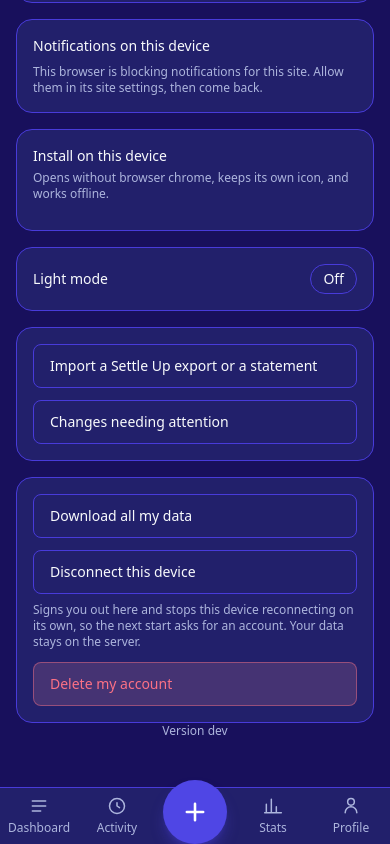
Scenario: the profile settings › can back out of deleting the account
This screenshot has width=390, height=844.
Click the button "Delete my account". click: (111, 684)
box: [33,662,357,706]
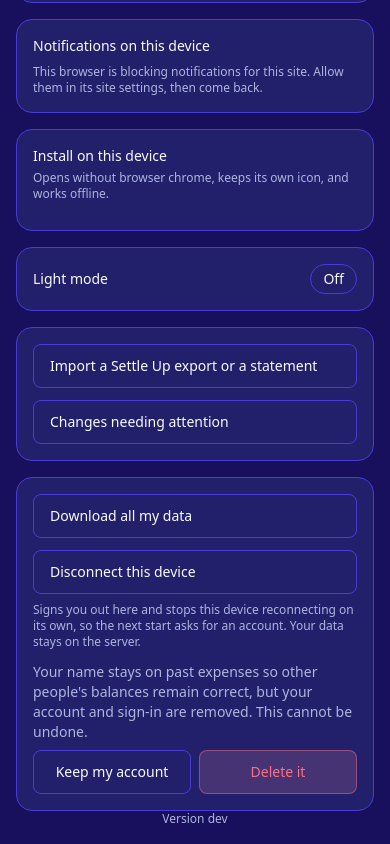
Click the button "Keep my account". click: (112, 772)
box: [33,750,191,794]
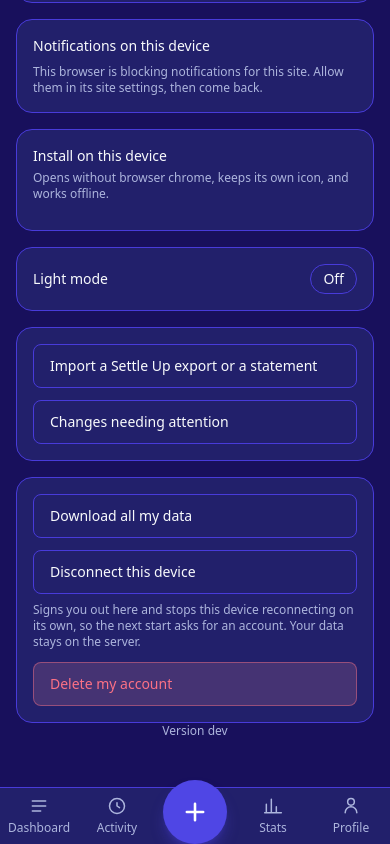
Now the text "Delete my account" is shown, box [33,662,357,706]
